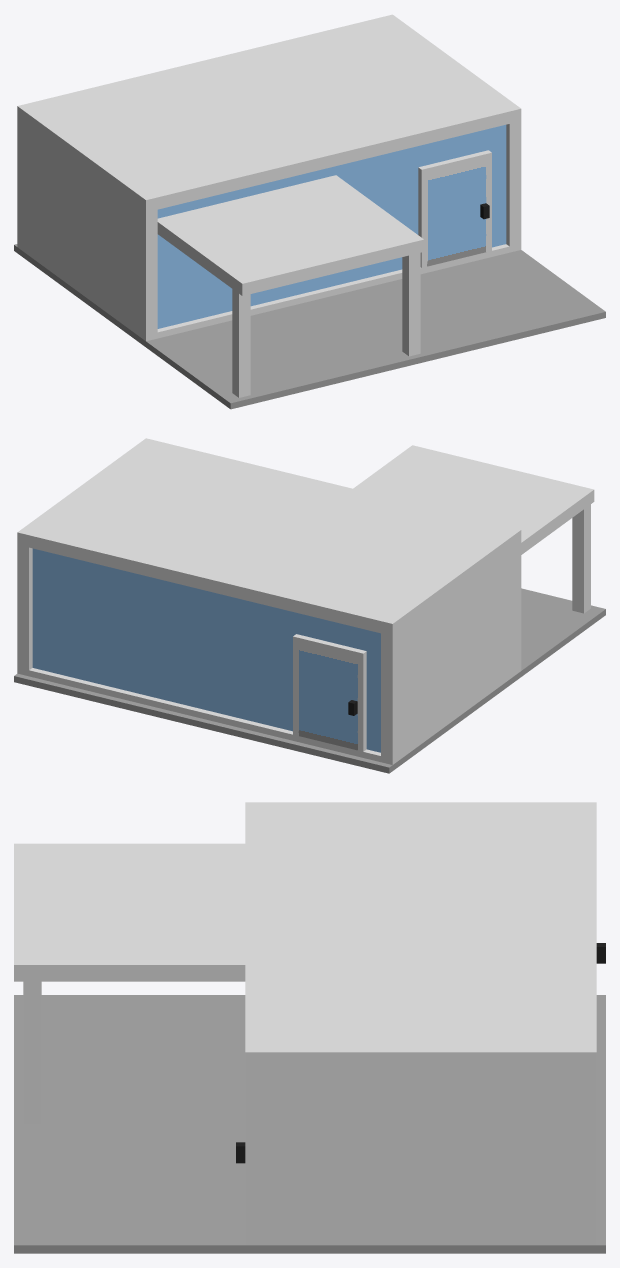
The model's file is obj_house2.dae.
The picture shows the model from 3 angles, top to bottom: view 1: azimuth 30°, elevation 25°; view 2: azimuth 150°, elevation 25°; view 3: azimuth 270°, elevation 25°; orthographic projection. The views are drawn at different scales.
Parts seen in each view (by area): view 1: obj_house2; view 2: obj_house2; view 3: obj_house2.
Part boxes in pixels (left/top/right/bottom): obj_house2: left=14, top=14, right=605, bottom=409; obj_house2: left=14, top=438, right=605, bottom=773; obj_house2: left=14, top=802, right=605, bottom=1253.
Bounding box in the file's own units: 6.4 × 6.4 × 2.4.
Materials: 1 (1 with a texture image).
